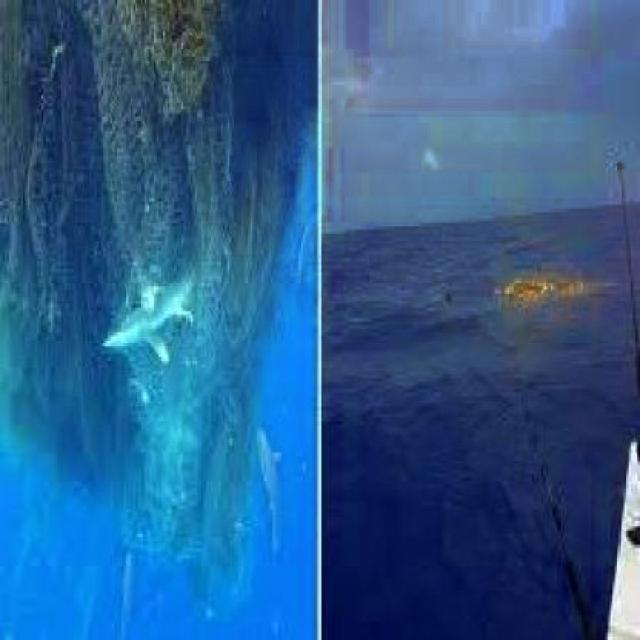net: (2, 3, 292, 280)
